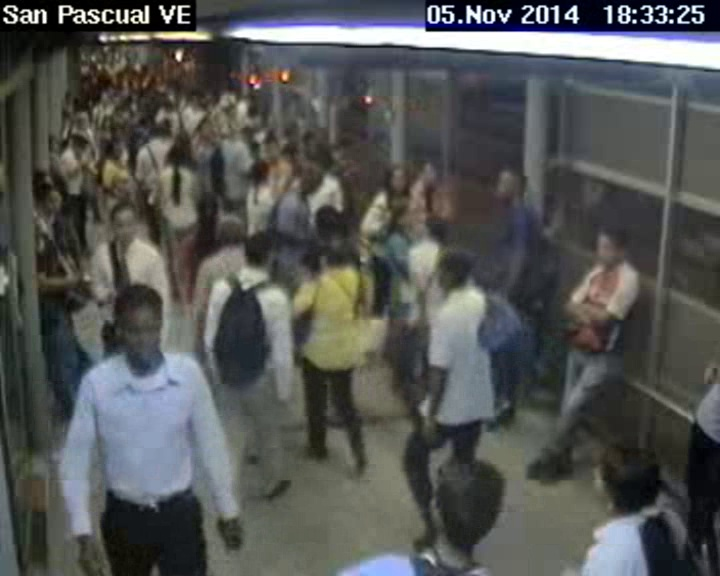person: (419, 458, 505, 553), (591, 434, 670, 534), (110, 282, 173, 376), (427, 246, 474, 301), (110, 201, 151, 252), (593, 222, 632, 270), (494, 163, 523, 211), (420, 212, 459, 247), (243, 232, 275, 273), (310, 205, 344, 238), (190, 192, 217, 231), (211, 218, 251, 243), (296, 166, 325, 198), (382, 162, 410, 194), (36, 186, 61, 221), (322, 239, 347, 270), (162, 143, 186, 171), (102, 135, 125, 164), (418, 159, 439, 188), (251, 158, 271, 188), (60, 132, 82, 154), (149, 124, 169, 143), (279, 140, 296, 158), (224, 128, 242, 143), (196, 94, 209, 113), (185, 93, 197, 110)
